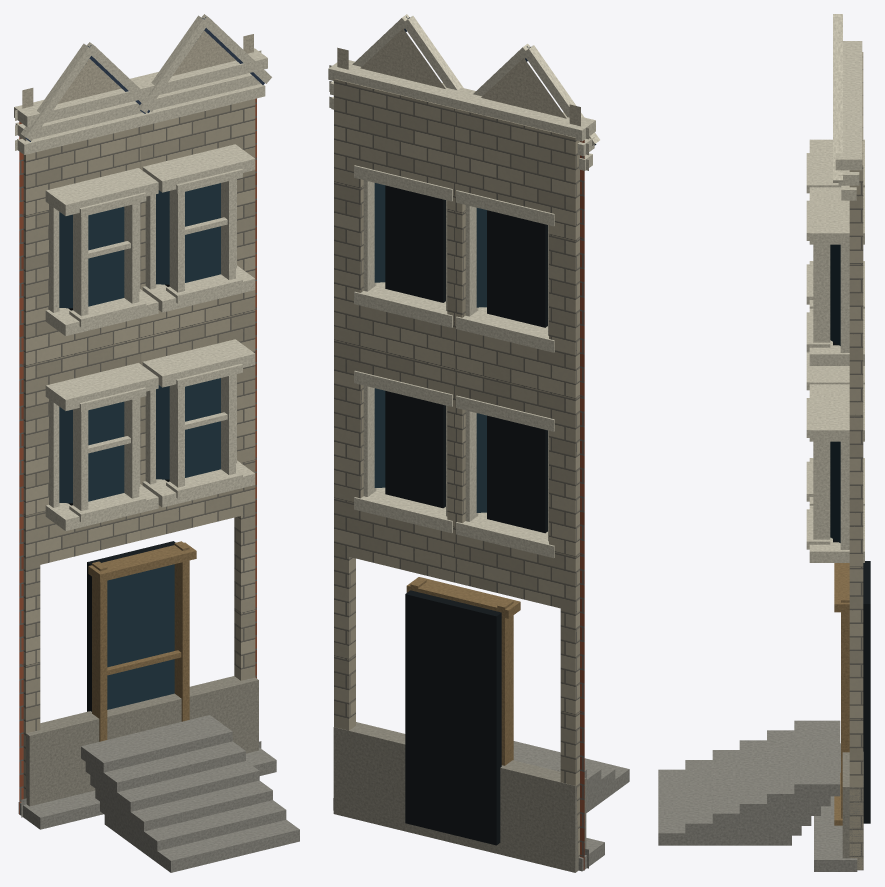
The model's file is RUNDWN12_lod2.glb.
3 renders of one model, left to right at view 1: azimuth 30°, elevation 25°; view 2: azimuth 150°, elevation 25°; view 3: azimuth 270°, elevation 25°, orthographic. The views are drawn at different scales.
Visible parts, largest first — view 1: RUNDWN12_FRONT_LOD2; view 2: RUNDWN12_FRONT_LOD2; view 3: RUNDWN12_FRONT_LOD2.
Boxes of the visible parts, x1,y1,x2,y2 form: RUNDWN12_FRONT_LOD2: (14, 14, 299, 872); RUNDWN12_FRONT_LOD2: (328, 14, 629, 872); RUNDWN12_FRONT_LOD2: (658, 14, 870, 871).
Size of the model in its own units: 3.44 by 10.16 by 2.54.
11 materials, 9 textured.
